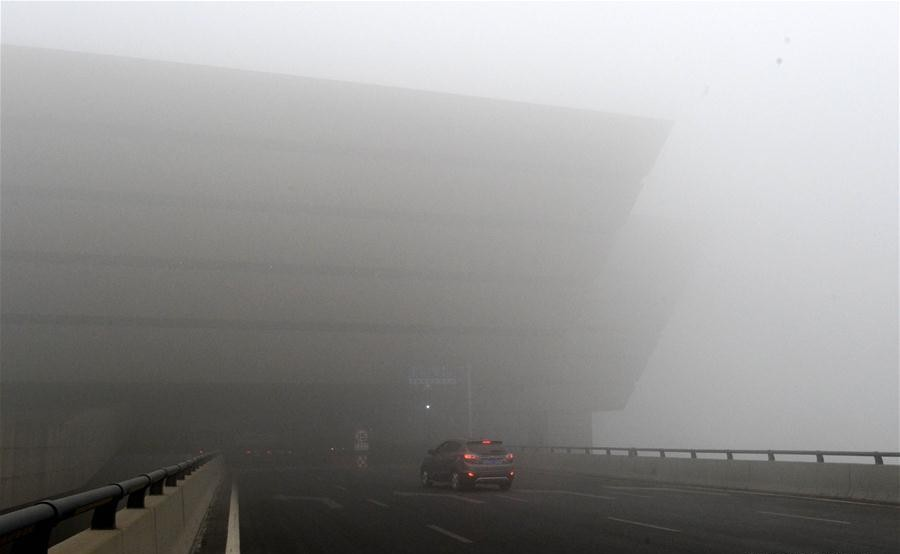car: (418, 436, 518, 492)
